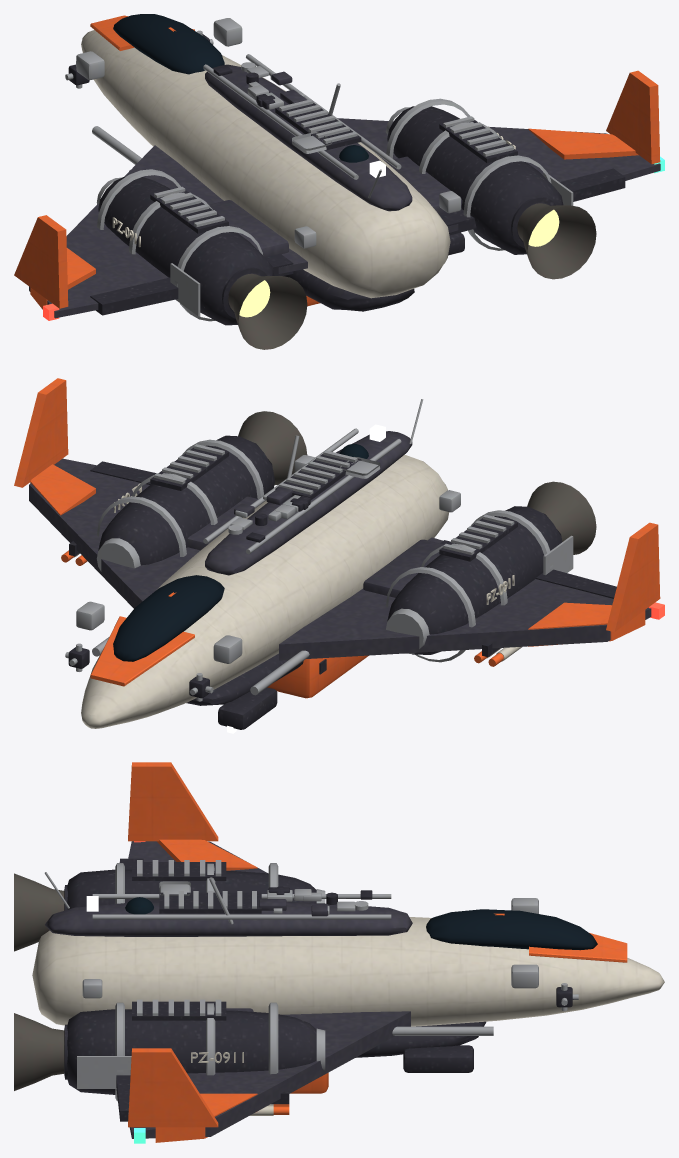
File: game-kestrel.glb
3 views of the same model, one above another, from view 1: azimuth 30°, elevation 25°; view 2: azimuth 150°, elevation 25°; view 3: azimuth 270°, elevation 25° (orthographic).
Parts seen in each view (by area): view 1: kestrel; view 2: kestrel; view 3: kestrel.
Boxes of the visible parts, left/top/right/bottom form: kestrel: left=14, top=14, right=664, bottom=349; kestrel: left=14, top=378, right=664, bottom=733; kestrel: left=14, top=762, right=664, bottom=1143.
Size of the model in its own units: 17.9 by 5.72 by 16.56.
11 materials, 2 textured.
